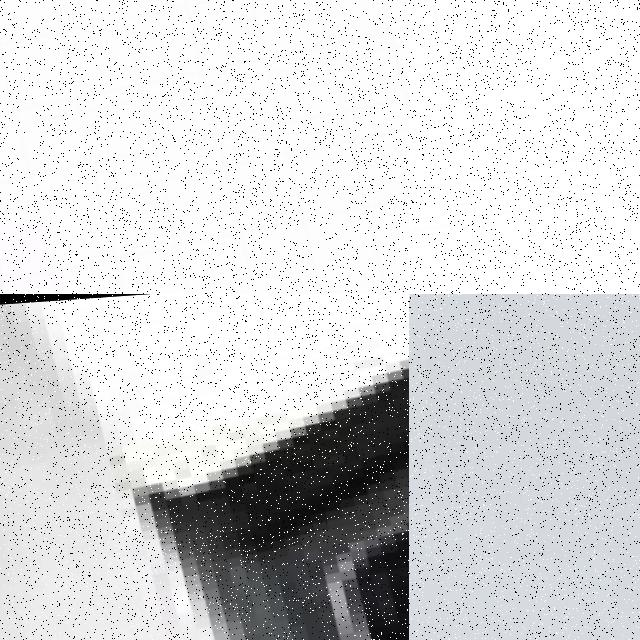0: (0, 0, 409, 294)
drone: (0, 294, 409, 640), (409, 37, 640, 294)
